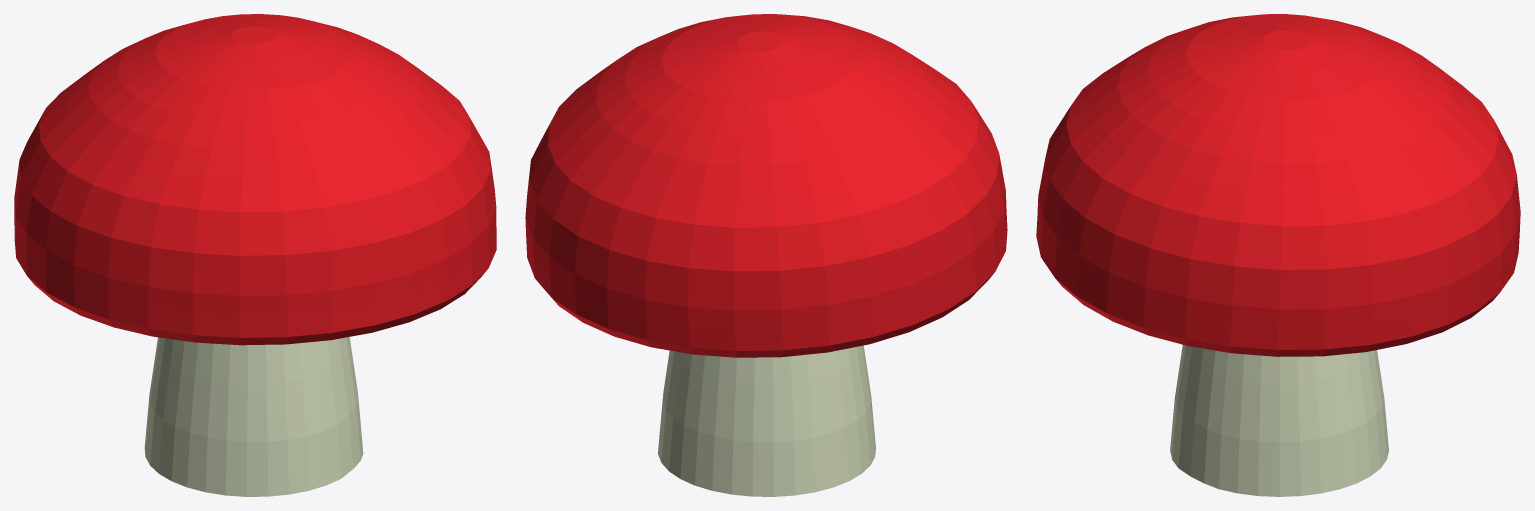
The model's file is Shroom.glb.
3 renders of one model, left to right at view 1: azimuth 30°, elevation 25°; view 2: azimuth 150°, elevation 25°; view 3: azimuth 270°, elevation 25°, orthographic.
Parts seen in each view (by area): view 1: Cylinder; view 2: Cylinder; view 3: Cylinder.
Part boxes in pixels (bbox=[...]): Cylinder: bbox=[14, 14, 496, 496]; Cylinder: bbox=[525, 14, 1007, 496]; Cylinder: bbox=[1036, 14, 1520, 496].
Size of the model in its own units: 4.42 by 4.16 by 4.42.
